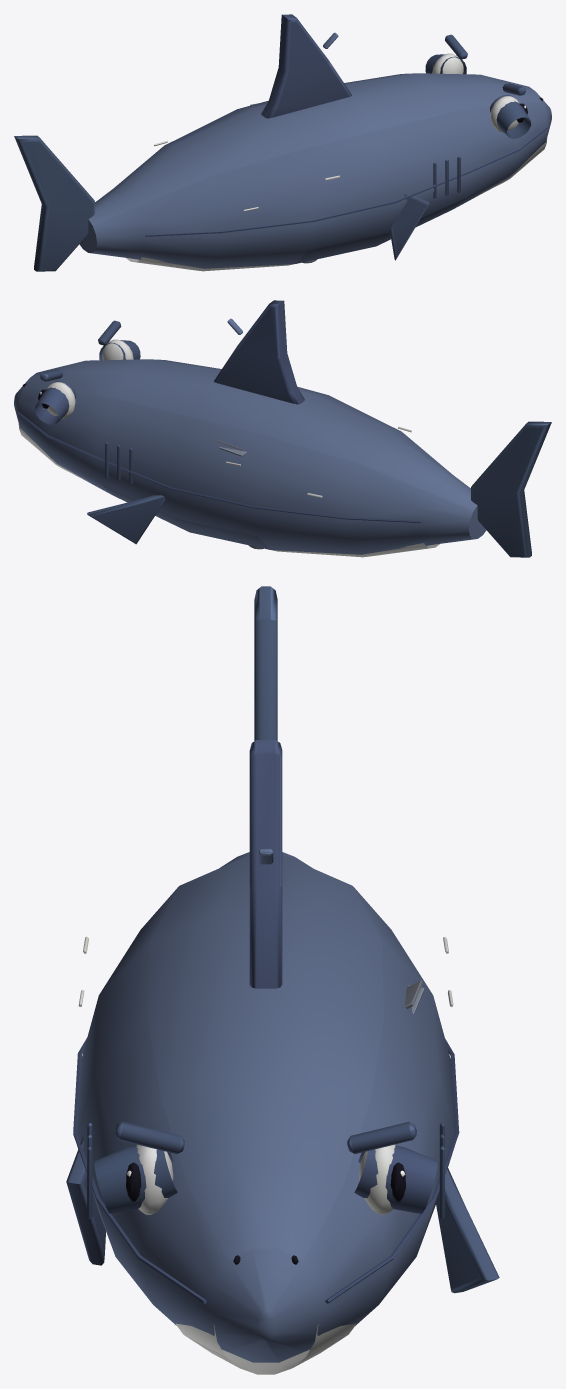
The model's file is SM_Shark_Body.fbx.
3 renders of one model, top to bottom at view 1: azimuth 30°, elevation 25°; view 2: azimuth 150°, elevation 25°; view 3: azimuth 270°, elevation 25°, orthographic. The views are drawn at different scales.
Visible parts, largest first — view 1: SM_Shark_Body; view 2: SM_Shark_Body; view 3: SM_Shark_Body.
Part boxes in pixels (x1,y1,x2,y2): SM_Shark_Body: (14,14,551,271); SM_Shark_Body: (14,300,551,557); SM_Shark_Body: (66,586,499,1374).
Size of the model in its own units: 532 by 236 by 187.
